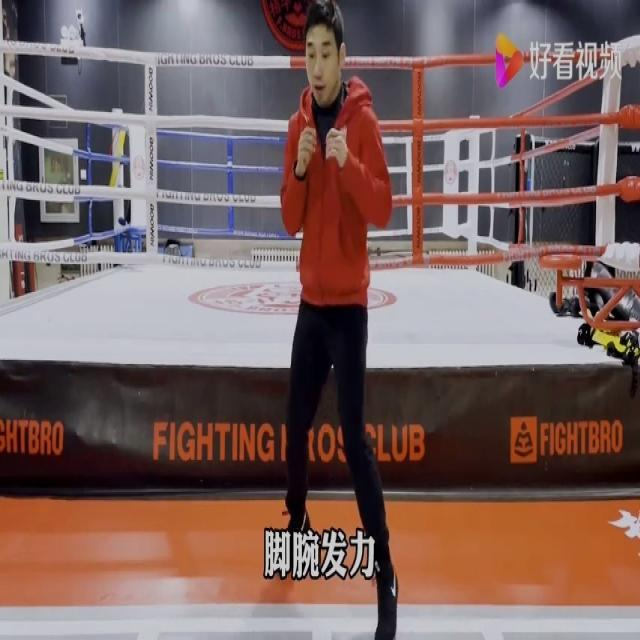non-fight: (275, 0, 391, 632)
